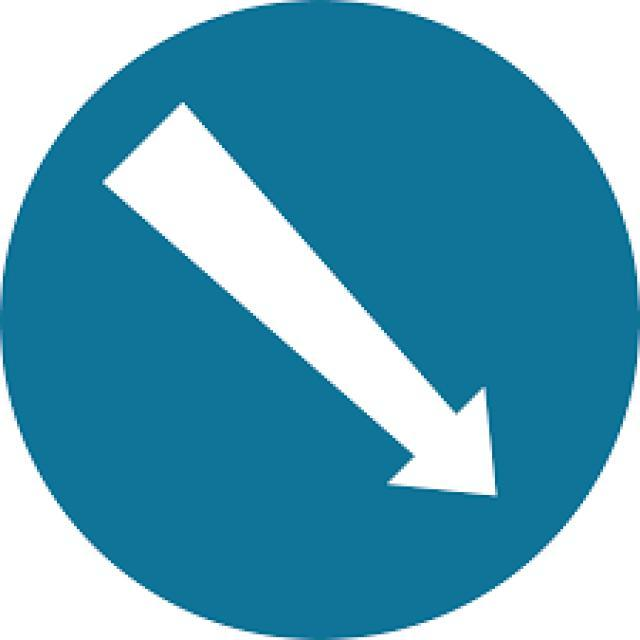compulsary keep right: (20, 24, 617, 621)
